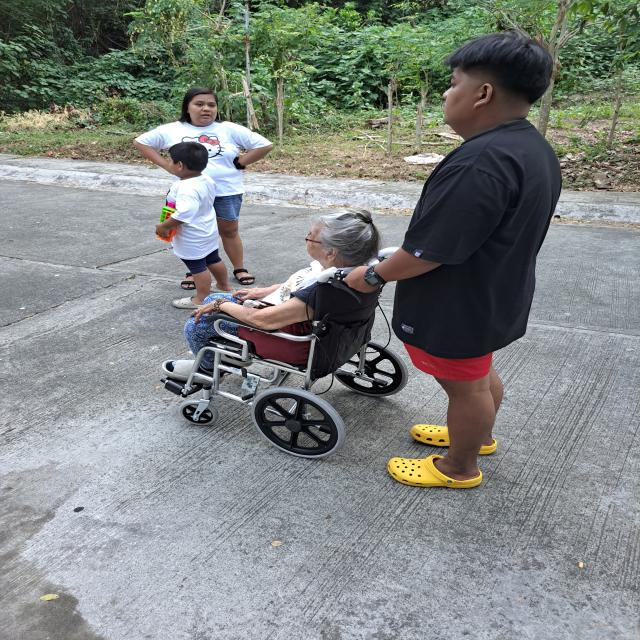wheelchairs: (151, 252, 413, 468)
